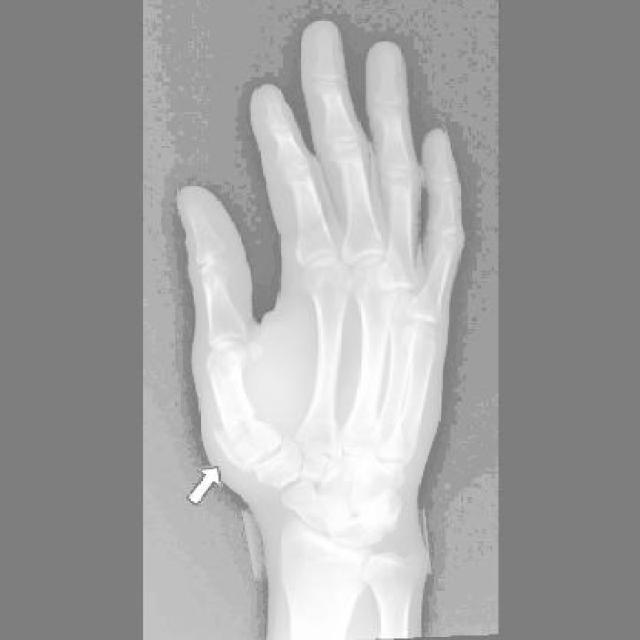Fracture: (212, 412, 274, 468)
